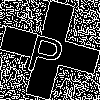P: (25, 25, 69, 77)
